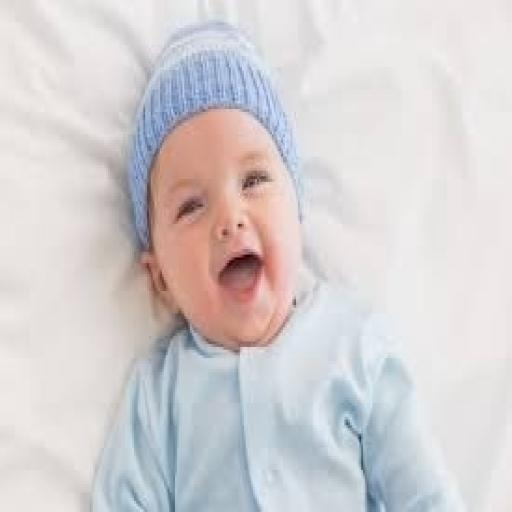laughing: (80, 14, 467, 509)
